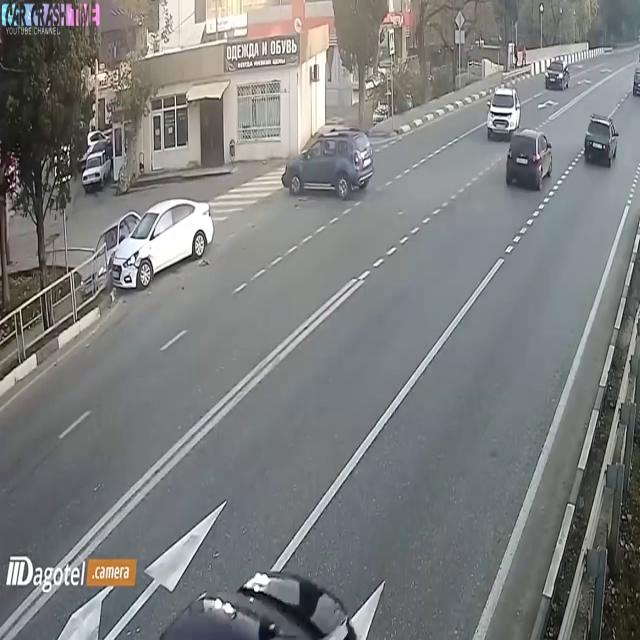Accident: (86, 152, 218, 338)
